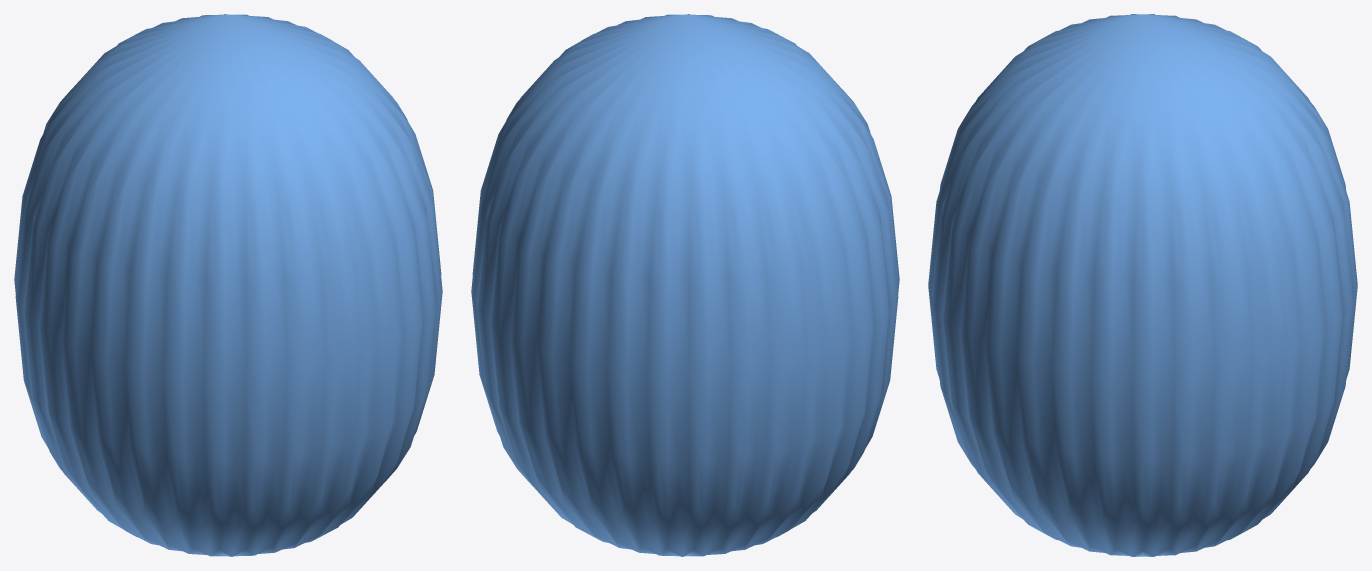
File: outfit_tshirt.glb
3 renders of one model, left to right at view 1: azimuth 30°, elevation 25°; view 2: azimuth 150°, elevation 25°; view 3: azimuth 270°, elevation 25°, orthographic.
Parts seen in each view (by area): view 1: Cylinder; view 2: Cylinder; view 3: Cylinder.
Part boxes in pixels (x1,y1,x2,y2): Cylinder: (14,14,442,556); Cylinder: (471,14,899,556); Cylinder: (928,14,1357,556).
Size of the model in its own units: 0.4141 by 0.5766 by 0.4141.
